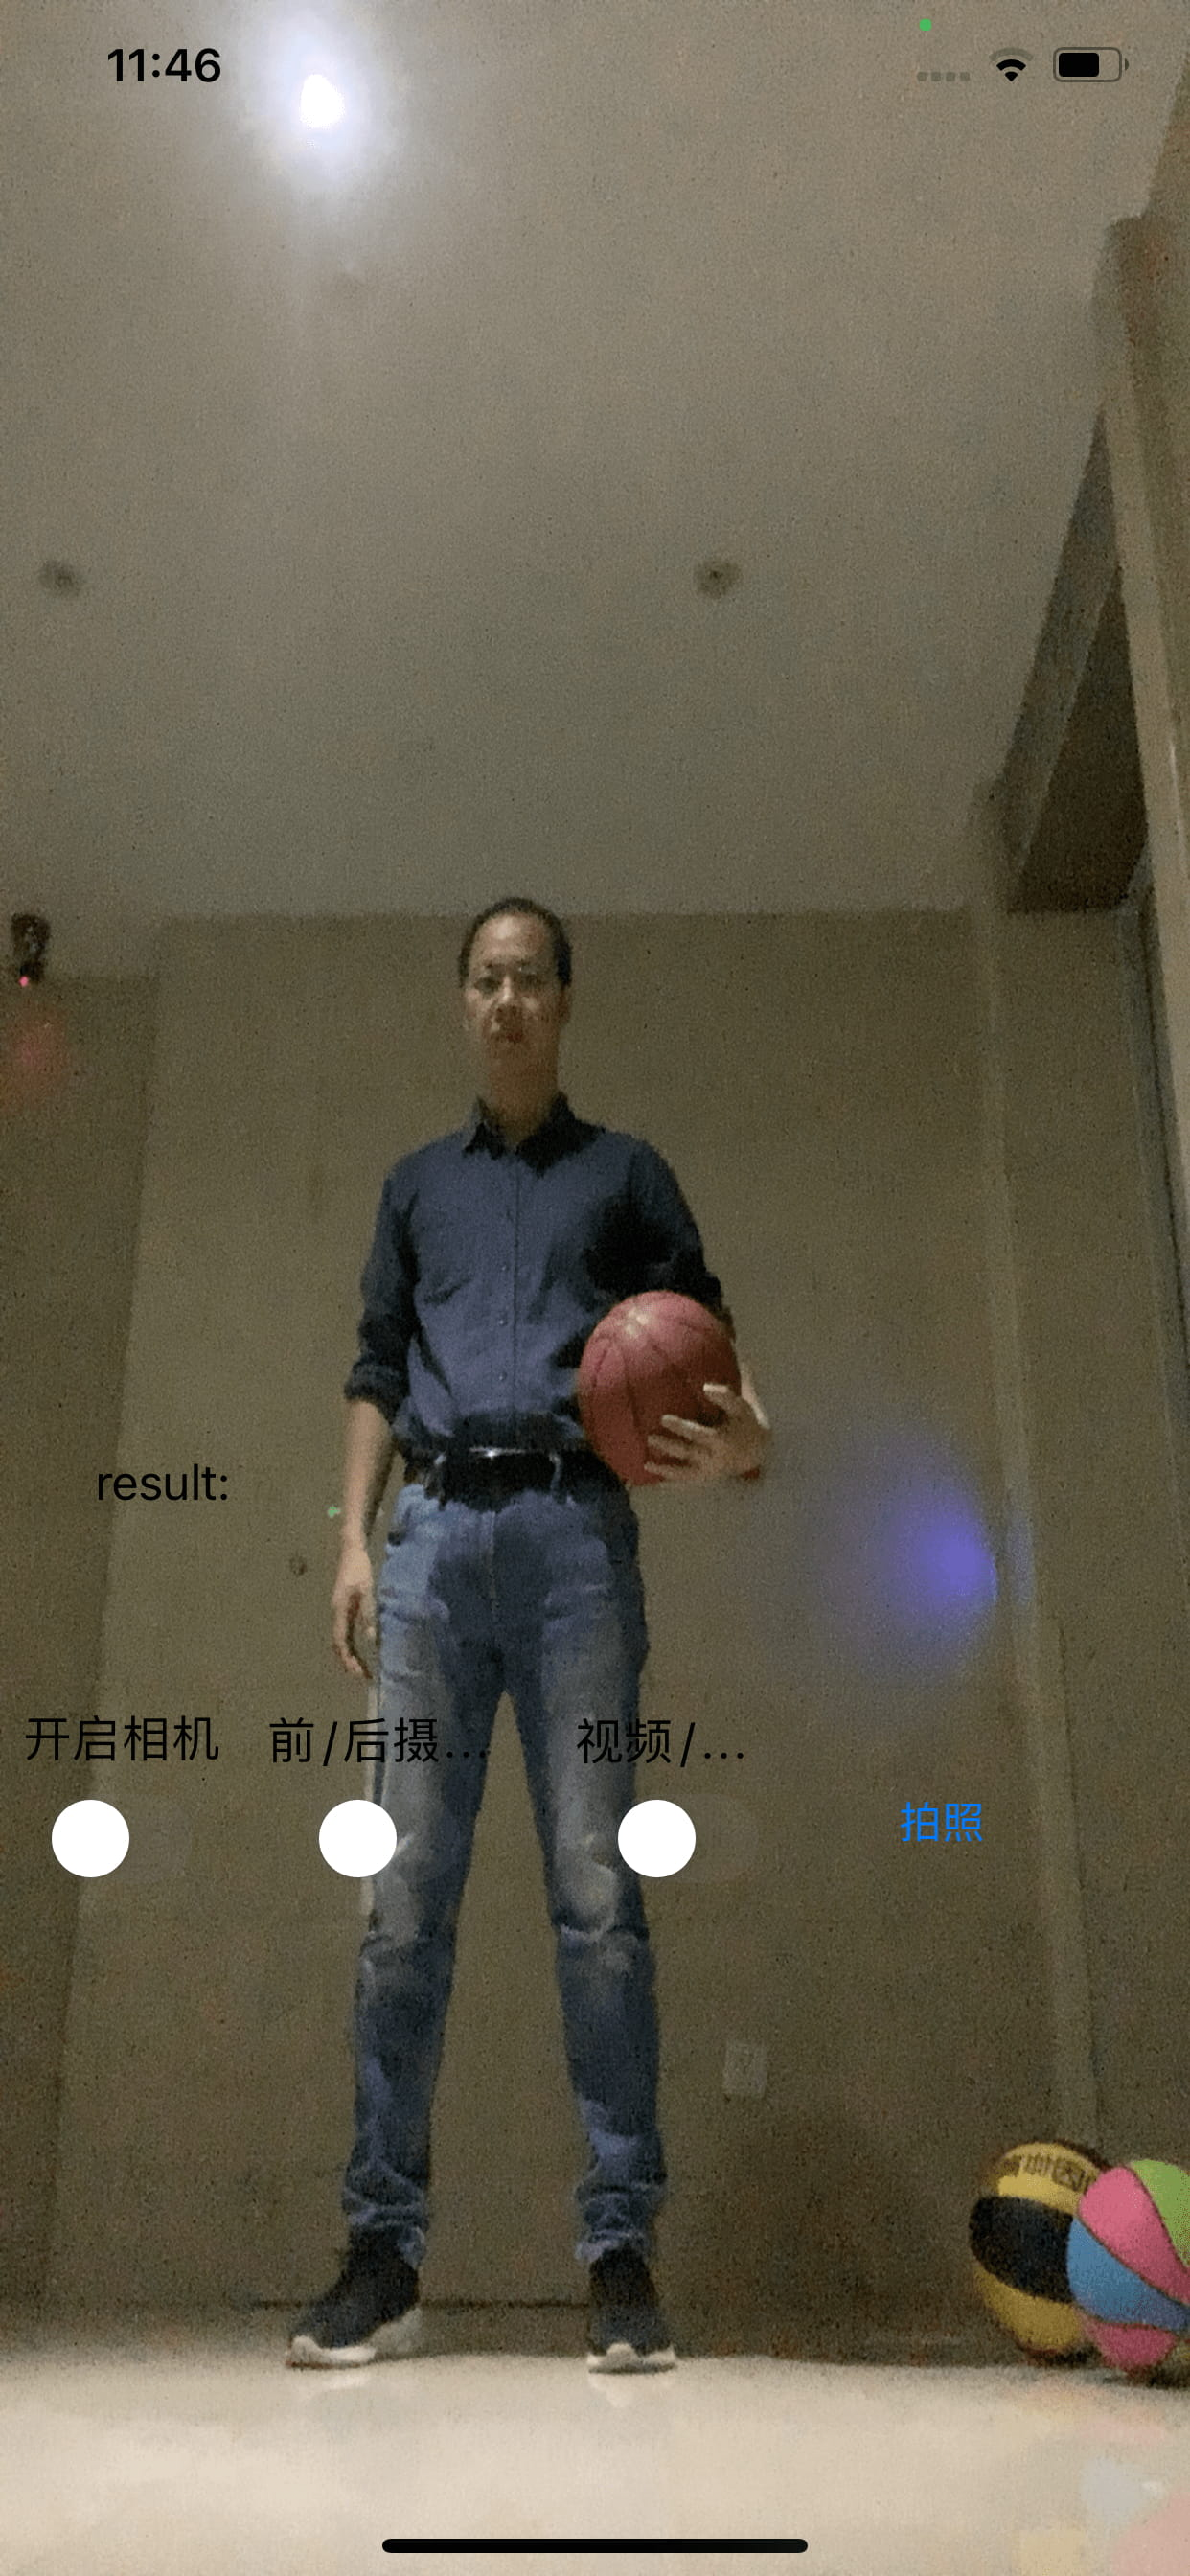ball: (575, 1286, 746, 1485), (970, 2139, 1095, 2362), (1072, 2155, 1190, 2379)
